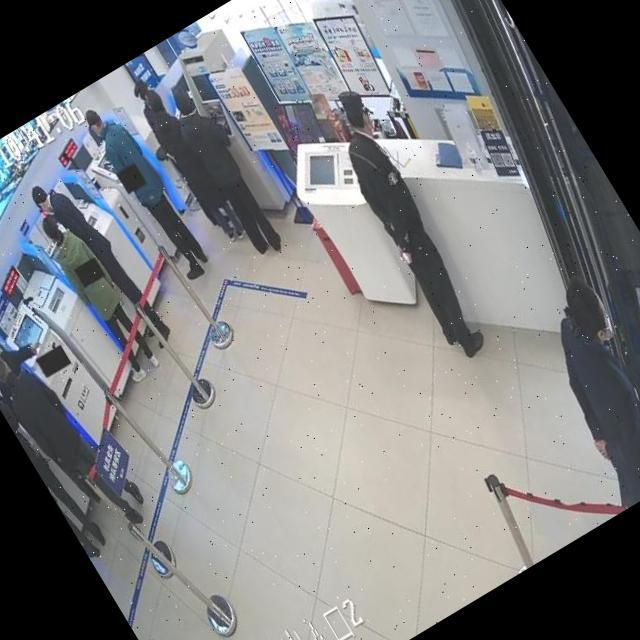person: (312, 84, 508, 363), (0, 312, 154, 550), (507, 270, 640, 511), (27, 164, 178, 366), (78, 93, 218, 288), (162, 78, 296, 264), (34, 205, 165, 388), (36, 204, 165, 386), (0, 360, 112, 559), (0, 327, 106, 522), (131, 78, 250, 250), (0, 375, 101, 547), (0, 312, 60, 406), (127, 76, 178, 144)
